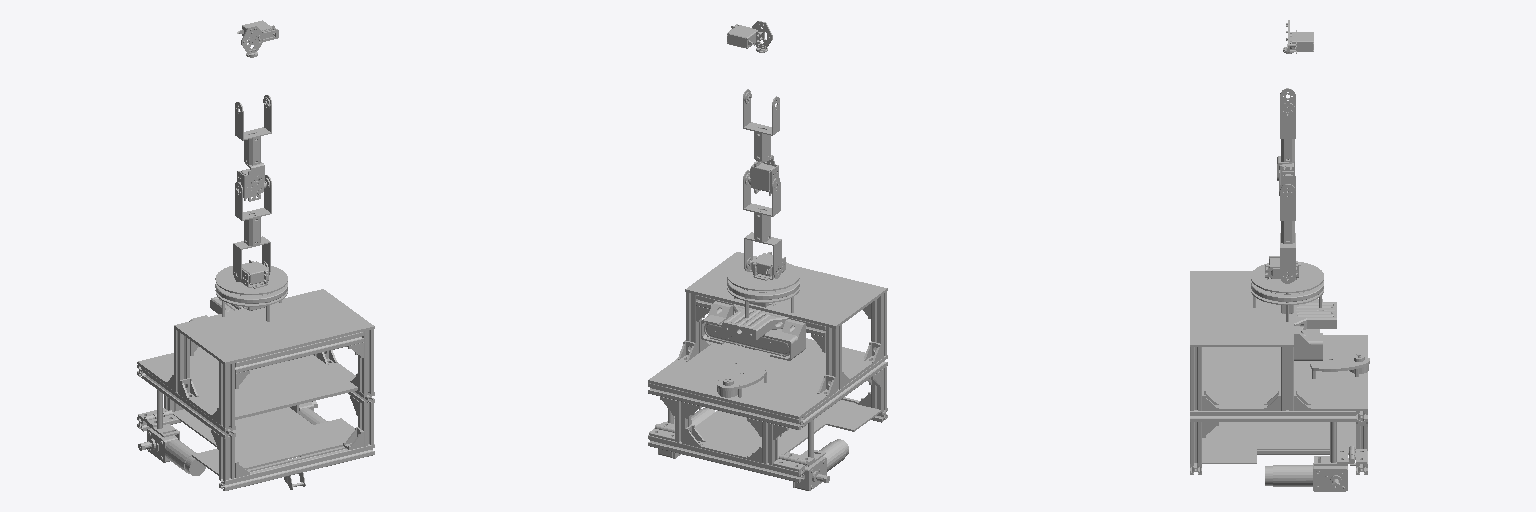
The robot description file, URDF, robot "tf_urdf3":
<?xml version="1.0" encoding="utf-8"?>
<!-- This URDF was automatically created by SolidWorks to URDF Exporter! Originally created by [author] ([email redacted]) 
     Commit Version: 1.6.0-4-g7f85cfe  Build Version: 1.6.7995.38578
     For more information, please see http://wiki.ros.org/sw_urdf_exporter -->
<robot
  name="tf_urdf3">
  <link
    name="base_link">
    <inertial>
      <origin
        xyz="-1.05559497177638E-12 6.31894336221611E-12 -5.17741961678007E-12"
        rpy="0 0 0" />
      <mass
        value="2.49683972846965" />
      <inertia
        ixx="0.00596159328883626"
        ixy="-5.06469082751166E-08"
        ixz="-1.5266709729098E-09"
        iyy="0.0122170913936761"
        iyz="-9.04363601046582E-06"
        izz="0.00670663028700821" />
    </inertial>
    <visual>
      <origin
        xyz="0 0 0"
        rpy="0 0 0" />
      <geometry>
        <mesh
          filename="package://tf_urdf3/meshes/base_link.STL" />
      </geometry>
      <material
        name="">
        <color
          rgba="0.752941176470588 0.752941176470588 0.752941176470588 1" />
      </material>
    </visual>
    <collision>
      <origin
        xyz="0 0 0"
        rpy="0 0 0" />
      <geometry>
        <mesh
          filename="package://tf_urdf3/meshes/base_link.STL" />
      </geometry>
    </collision>
  </link>
  <link
    name="base_scan">
    <inertial>
      <origin
        xyz="4.54497550705923E-16 0.00994901655834559 -4.16333634234434E-17"
        rpy="0 0 0" />
      <mass
        value="0.0660277715680958" />
      <inertia
        ixx="1.96156877893573E-05"
        ixy="-2.32345138020396E-22"
        ixz="-1.6940658945086E-21"
        iyy="3.48742138584865E-05"
        iyz="-1.68839275960928E-21"
        izz="1.96156117763069E-05" />
    </inertial>
    <visual>
      <origin
        xyz="0 0 0"
        rpy="0 0 0" />
      <geometry>
        <mesh
          filename="package://tf_urdf3/meshes/base_scan.STL" />
      </geometry>
      <material
        name="">
        <color
          rgba="0.792156862745098 0.819607843137255 0.933333333333333 1" />
      </material>
    </visual>
    <collision>
      <origin
        xyz="0 0 0"
        rpy="0 0 0" />
      <geometry>
        <mesh
          filename="package://tf_urdf3/meshes/base_scan.STL" />
      </geometry>
    </collision>
  </link>
  <joint
    name="scan_joint"
    type="revolute">
    <origin
      xyz="-0.00011198 0.067243 0.027941"
      rpy="1.5708 0 -2.6597" />
    <parent
      link="base_link" />
    <child
      link="base_scan" />
    <axis
      xyz="0 1 0" />
    <limit
      lower="0"
      upper="0"
      effort="0"
      velocity="0" />
  </joint>
  <link
    name="camera_link">
    <inertial>
      <origin
        xyz="-3.59644516483235E-06 -8.99346729618666E-05 -0.0199626938850732"
        rpy="0 0 0" />
      <mass
        value="0.182998721569065" />
      <inertia
        ixx="3.5992273850704E-05"
        ixy="2.02103200586128E-09"
        ixz="4.50591985459383E-08"
        iyy="0.000405203077313625"
        iyz="4.47034793272274E-08"
        izz="0.000396282426264132" />
    </inertial>
    <visual>
      <origin
        xyz="0 0 0"
        rpy="0 0 0" />
      <geometry>
        <mesh
          filename="package://tf_urdf3/meshes/camera_link.STL" />
      </geometry>
      <material
        name="">
        <color
          rgba="0.752941176470588 0.752941176470588 0.752941176470588 1" />
      </material>
    </visual>
    <collision>
      <origin
        xyz="0 0 0"
        rpy="0 0 0" />
      <geometry>
        <mesh
          filename="package://tf_urdf3/meshes/camera_link.STL" />
      </geometry>
    </collision>
  </link>
  <joint
    name="camera_joint"
    type="fixed">
    <origin
      xyz="-0.00011198 0.049243 0.081941"
      rpy="1.5708 0 -3.1416" />
    <parent
      link="base_link" />
    <child
      link="camera_link" />
    <axis
      xyz="0 0 0" />
  </joint>
  <link
    name="left_wheel_link">
    <inertial>
      <origin
        xyz="-0.0150496497452622 -1.96168775667971E-12 -1.66533453693773E-16"
        rpy="0 0 0" />
      <mass
        value="0.0895053073671552" />
      <inertia
        ixx="0.000104006422478187"
        ixy="7.89420250912323E-16"
        ixz="4.4681527755846E-20"
        iyy="5.80082032825446E-05"
        iyz="9.78363711660185E-16"
        izz="5.80082032677947E-05" />
    </inertial>
    <visual>
      <origin
        xyz="0 0 0"
        rpy="0 0 0" />
      <geometry>
        <mesh
          filename="package://tf_urdf3/meshes/left_wheel_link.STL" />
      </geometry>
      <material
        name="">
        <color
          rgba="0.250980392156863 0.250980392156863 0.250980392156863 1" />
      </material>
    </visual>
    <collision>
      <origin
        xyz="0 0 0"
        rpy="0 0 0" />
      <geometry>
        <mesh
          filename="package://tf_urdf3/meshes/left_wheel_link.STL" />
      </geometry>
    </collision>
  </link>
  <joint
    name="left_wheel_joint"
    type="continuous">
    <origin
      xyz="-0.15461 0.074993 -0.12206"
      rpy="0.84849 0 0" />
    <parent
      link="base_link" />
    <child
      link="left_wheel_link" />
    <axis
      xyz="1 0 0" />
  </joint>
  <link
    name="right_wheel_link">
    <inertial>
      <origin
        xyz="-0.0150496497452624 -1.96179184008827E-12 5.55111512312578E-17"
        rpy="0 0 0" />
      <mass
        value="0.0895053073671553" />
      <inertia
        ixx="0.000104006422478187"
        ixy="7.89519161283675E-16"
        ixz="-4.17738099496549E-20"
        iyy="5.80082032825446E-05"
        iyz="9.78345076935346E-16"
        izz="5.80082032677947E-05" />
    </inertial>
    <visual>
      <origin
        xyz="0 0 0"
        rpy="0 0 0" />
      <geometry>
        <mesh
          filename="package://tf_urdf3/meshes/right_wheel_link.STL" />
      </geometry>
      <material
        name="">
        <color
          rgba="0.250980392156863 0.250980392156863 0.250980392156863 1" />
      </material>
    </visual>
    <collision>
      <origin
        xyz="0 0 0"
        rpy="0 0 0" />
      <geometry>
        <mesh
          filename="package://tf_urdf3/meshes/right_wheel_link.STL" />
      </geometry>
    </collision>
  </link>
  <joint
    name="right_wheel_joint"
    type="continuous">
    <origin
      xyz="0.15439 0.074993 -0.12206"
      rpy="0.5371 0 3.1416" />
    <parent
      link="base_link" />
    <child
      link="right_wheel_link" />
    <axis
      xyz="1 0 0" />
  </joint>
  <link
    name="caster_link">
    <inertial>
      <origin
        xyz="0.00460335958615544 -2.77555756156289E-17 -2.77555756156289E-17"
        rpy="0 0 0" />
      <mass
        value="0.01152385226836" />
      <inertia
        ixx="2.43995864492354E-06"
        ixy="-1.54848210669927E-21"
        ixz="1.59997409983069E-21"
        iyy="1.40033256895839E-06"
        iyz="-1.05879118406788E-21"
        izz="1.40033256895839E-06" />
    </inertial>
    <visual>
      <origin
        xyz="0 0 0"
        rpy="0 0 0" />
      <geometry>
        <mesh
          filename="package://tf_urdf3/meshes/caster_link.STL" />
      </geometry>
      <material
        name="">
        <color
          rgba="1 1 1 1" />
      </material>
    </visual>
    <collision>
      <origin
        xyz="0 0 0"
        rpy="0 0 0" />
      <geometry>
        <mesh
          filename="package://tf_urdf3/meshes/caster_link.STL" />
      </geometry>
    </collision>
  </link>
  <joint
    name="caster_joint"
    type="continuous">
    <origin
      xyz="-0.0052945 -0.15459 -0.13706"
      rpy="3.1007 0 -0.034236" />
    <parent
      link="base_link" />
    <child
      link="caster_link" />
    <axis
      xyz="1 0 0" />
  </joint>
  <link
    name="arm_1_link">
    <inertial>
      <origin
        xyz="-0.00304007438065966 0.0196164335046979 -0.00291517433011433"
        rpy="0 0 0" />
      <mass
        value="0.102309676287535" />
      <inertia
        ixx="5.85277337608611E-05"
        ixy="-1.83034149314494E-07"
        ixz="-5.85534183281055E-07"
        iyy="0.000109918724976135"
        iyz="3.63049047084518E-07"
        izz="5.95682017970662E-05" />
    </inertial>
    <visual>
      <origin
        xyz="0 0 0"
        rpy="0 0 0" />
      <geometry>
        <mesh
          filename="package://tf_urdf3/meshes/arm_1_link.STL" />
      </geometry>
      <material
        name="">
        <color
          rgba="0.752941176470588 0.752941176470588 0.752941176470588 1" />
      </material>
    </visual>
    <collision>
      <origin
        xyz="0 0 0"
        rpy="0 0 0" />
      <geometry>
        <mesh
          filename="package://tf_urdf3/meshes/arm_1_link.STL" />
      </geometry>
    </collision>
  </link>
  <joint
    name="arm_1_joint"
    type="continuous">
    <origin
      xyz="-0.00011198 -0.0037567 0.15944"
      rpy="1.5708 0 1.9678" />
    <parent
      link="base_link" />
    <child
      link="arm_1_link" />
    <axis
      xyz="0 1 0" />
    <limit
      lower="-1.57"
      upper="1.57"
      effort="10"
      velocity="100" />
  </joint>
  <link
    name="arm_2_link">
    <inertial>
      <origin
        xyz="-0.00136241892687206 0.0760000000000048 0.0032497474917032"
        rpy="0 0 0" />
      <mass
        value="0.0731866074343535" />
      <inertia
        ixx="4.8007381560074E-05"
        ixy="-1.00851028373393E-08"
        ixz="8.91994561566121E-06"
        iyy="3.20760640864427E-05"
        iyz="2.40557713523583E-08"
        izz="3.04704178358833E-05" />
    </inertial>
    <visual>
      <origin
        xyz="0 0 0"
        rpy="0 0 0" />
      <geometry>
        <mesh
          filename="package://tf_urdf3/meshes/arm_2_link.STL" />
      </geometry>
      <material
        name="">
        <color
          rgba="0.752941176470588 0.752941176470588 0.752941176470588 1" />
      </material>
    </visual>
    <collision>
      <origin
        xyz="0 0 0"
        rpy="0 0 0" />
      <geometry>
        <mesh
          filename="package://tf_urdf3/meshes/arm_2_link.STL" />
      </geometry>
    </collision>
  </link>
  <joint
    name="arm_2_joint"
    type="continuous">
    <origin
      xyz="0.00057178 0.0325 0.00023971"
      rpy="0 0 0" />
    <parent
      link="arm_1_link" />
    <child
      link="arm_2_link" />
    <axis
      xyz="0.38664 0 -0.92223" />
    <limit
      lower="-1.57"
      upper="1.57"
      effort="10"
      velocity="100" />
  </joint>
  <link
    name="arm_3_link">
    <inertial>
      <origin
        xyz="-0.00258153228786722 0.0524015939542918 0.000939181170584955"
        rpy="0 0 0" />
      <mass
        value="0.103604281307373" />
      <inertia
        ixx="3.85881018738509E-05"
        ixy="-4.80398867236182E-07"
        ixz="5.05895931054935E-06"
        iyy="2.28862113904832E-05"
        iyz="-1.4445332566151E-07"
        izz="2.97794533691035E-05" />
    </inertial>
    <visual>
      <origin
        xyz="0 0 0"
        rpy="0 0 0" />
      <geometry>
        <mesh
          filename="package://tf_urdf3/meshes/arm_3_link.STL" />
      </geometry>
      <material
        name="">
        <color
          rgba="0.752941176470588 0.752941176470588 0.752941176470588 1" />
      </material>
    </visual>
    <collision>
      <origin
        xyz="0 0 0"
        rpy="0 0 0" />
      <geometry>
        <mesh
          filename="package://tf_urdf3/meshes/arm_3_link.STL" />
      </geometry>
    </collision>
  </link>
  <joint
    name="arm_3_joint"
    type="continuous">
    <origin
      xyz="0 0.152 0"
      rpy="0 0 0" />
    <parent
      link="arm_2_link" />
    <child
      link="arm_3_link" />
    <axis
      xyz="0.38664 0 -0.92223" />
    <limit
      lower="-1.57"
      upper="1.57"
      effort="10"
      velocity="100" />
  </joint>
  <link
    name="arm_4_link">
    <inertial>
      <origin
        xyz="-0.00101187424557146 0.0375011786161997 -0.00366708119504672"
        rpy="0 0 0" />
      <mass
        value="0.0995665365963181" />
      <inertia
        ixx="2.11129357501037E-05"
        ixy="-8.60509757749079E-08"
        ixz="2.61664433182042E-06"
        iyy="1.5114895217304E-05"
        iyz="-3.60758730665085E-08"
        izz="1.71059724055455E-05" />
    </inertial>
    <visual>
      <origin
        xyz="0 0 0"
        rpy="0 0 0" />
      <geometry>
        <mesh
          filename="package://tf_urdf3/meshes/arm_4_link.STL" />
      </geometry>
      <material
        name="">
        <color
          rgba="0.752941176470588 0.752941176470588 0.752941176470588 1" />
      </material>
    </visual>
    <collision>
      <origin
        xyz="0 0 0"
        rpy="0 0 0" />
      <geometry>
        <mesh
          filename="package://tf_urdf3/meshes/arm_4_link.STL" />
      </geometry>
    </collision>
  </link>
  <joint
    name="arm_4_joint"
    type="continuous">
    <origin
      xyz="0 0.1464 0"
      rpy="0 0 0" />
    <parent
      link="arm_3_link" />
    <child
      link="arm_4_link" />
    <axis
      xyz="0.38664 0 -0.92223" />
    <limit
      lower="-1.57"
      upper="1.57"
      effort="10"
      velocity="100" />
  </joint>
  <link
    name="arm_5_link">
    <inertial>
      <origin
        xyz="-0.00868940066499363 0.0276881875422991 -0.0253003256742447"
        rpy="0 0 0" />
      <mass
        value="0.0375612763588537" />
      <inertia
        ixx="6.51328883591069E-06"
        ixy="4.82424645923746E-09"
        ixz="1.70111532974492E-06"
        iyy="6.43248421285328E-06"
        iyz="-9.59387280153688E-09"
        izz="2.95122651270477E-06" />
    </inertial>
    <visual>
      <origin
        xyz="0 0 0"
        rpy="0 0 0" />
      <geometry>
        <mesh
          filename="package://tf_urdf3/meshes/arm_5_link.STL" />
      </geometry>
      <material
        name="">
        <color
          rgba="0.752941176470588 0.752941176470588 0.752941176470588 1" />
      </material>
    </visual>
    <collision>
      <origin
        xyz="0 0 0"
        rpy="0 0 0" />
      <geometry>
        <mesh
          filename="package://tf_urdf3/meshes/arm_5_link.STL" />
      </geometry>
    </collision>
  </link>
  <joint
    name="arm_5_joint"
    type="continuous">
    <origin
      xyz="0.00056091 0.09115 0.0028104"
      rpy="3.1416 0 3.1416" />
    <parent
      link="arm_4_link" />
    <child
      link="arm_5_link" />
    <axis
      xyz="0 1 0" />
    <limit
      lower="-1.57"
      upper="1.57"
      effort="10"
      velocity="100" />
  </joint>
  <link
    name="gripper_1_link">
    <inertial>
      <origin
        xyz="0.00016348046706538 -0.00403983489131265 0.00336463442621077"
        rpy="0 0 0" />
      <mass
        value="0.00233893532260202" />
      <inertia
        ixx="2.44085104510322E-07"
        ixy="-4.91339632043205E-09"
        ixz="-7.81436025649409E-19"
        iyy="7.71995240694166E-08"
        iyz="2.771416955401E-18"
        izz="3.18397565042682E-07" />
    </inertial>
    <visual>
      <origin
        xyz="0 0 0"
        rpy="0 0 0" />
      <geometry>
        <mesh
          filename="package://tf_urdf3/meshes/gripper_1_link.STL" />
      </geometry>
      <material
        name="">
        <color
          rgba="0.792156862745098 0.819607843137255 0.933333333333333 1" />
      </material>
    </visual>
    <collision>
      <origin
        xyz="0 0 0"
        rpy="0 0 0" />
      <geometry>
        <mesh
          filename="package://tf_urdf3/meshes/gripper_1_link.STL" />
      </geometry>
    </collision>
  </link>
  <joint
    name="gripper_1_joint"
    type="continuous">
    <origin
      xyz="0.0068104 0.0295 -0.011783"
      rpy="0.90777 -0.89161 2.1168" />
    <parent
      link="arm_5_link" />
    <child
      link="gripper_1_link" />
    <axis
      xyz="0 0 1" />
    <limit
      lower="-1.57"
      upper="1.57"
      effort="10"
      velocity="100" />
  </joint>
</robot>

--- What the picture shows (computed from the rendered views, not written in the file) ---
The picture shows the robot from 3 angles, left to right: view 1: azimuth 30°, elevation 25°; view 2: azimuth 150°, elevation 25°; view 3: azimuth 270°, elevation 25°; orthographic projection.
Robot: tf_urdf3 — 12 links, 11 joints (1 revolute, 9 continuous, 1 fixed); root link base_link; default pose: every joint at zero.
Visible links, largest first — view 1: base_link, arm_3_link, arm_2_link, arm_1_link, arm_5_link; view 2: base_link, arm_3_link, arm_2_link, arm_1_link, camera_link, arm_5_link; view 3: base_link, arm_1_link, arm_2_link, arm_3_link, arm_5_link.
Boxes of the visible links, box(x1,y1,x2,y2) form: base_link: box(137, 282, 374, 490); arm_3_link: box(235, 95, 271, 201); arm_2_link: box(233, 175, 271, 281); arm_1_link: box(215, 260, 287, 295); arm_5_link: box(237, 20, 278, 57); base_link: box(648, 252, 887, 490); arm_3_link: box(743, 89, 779, 195); arm_2_link: box(743, 170, 781, 278); arm_1_link: box(727, 252, 799, 292); camera_link: box(704, 317, 789, 356); arm_5_link: box(727, 21, 772, 52); base_link: box(1190, 271, 1369, 491); arm_1_link: box(1251, 256, 1323, 294); arm_2_link: box(1280, 176, 1295, 283); arm_3_link: box(1277, 88, 1295, 195); arm_5_link: box(1283, 20, 1313, 53).
Bounding box of the posed robot: 0.335 × 0.2935 × 0.778 m (x, y, z).
Meshes: 12 distinct files referenced, 6 mesh visuals loaded (6 binary STL); not drawn: 6 (reference not matched to a file when rendering).